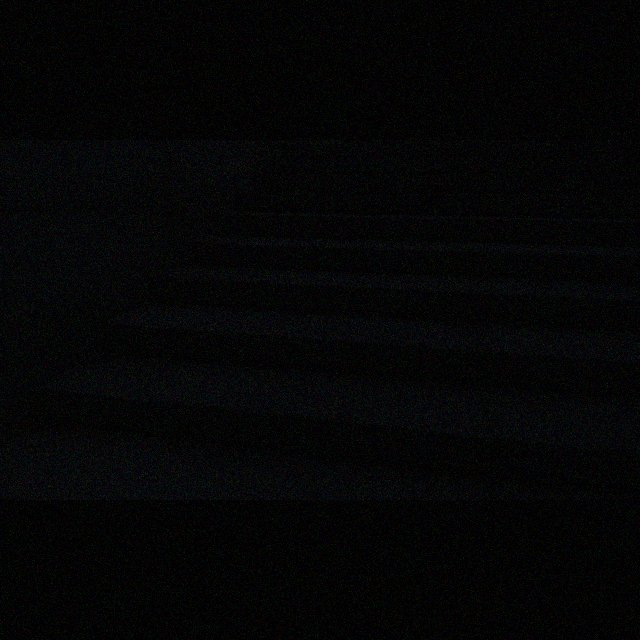stair: (40, 140, 639, 489)
